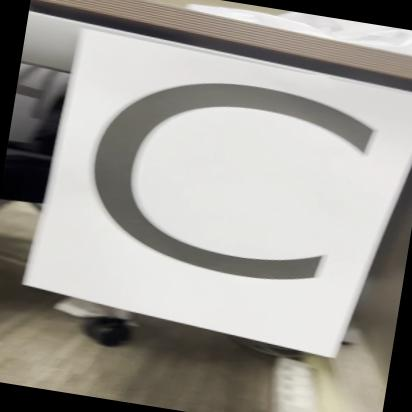seat: (49, 35, 412, 360)
